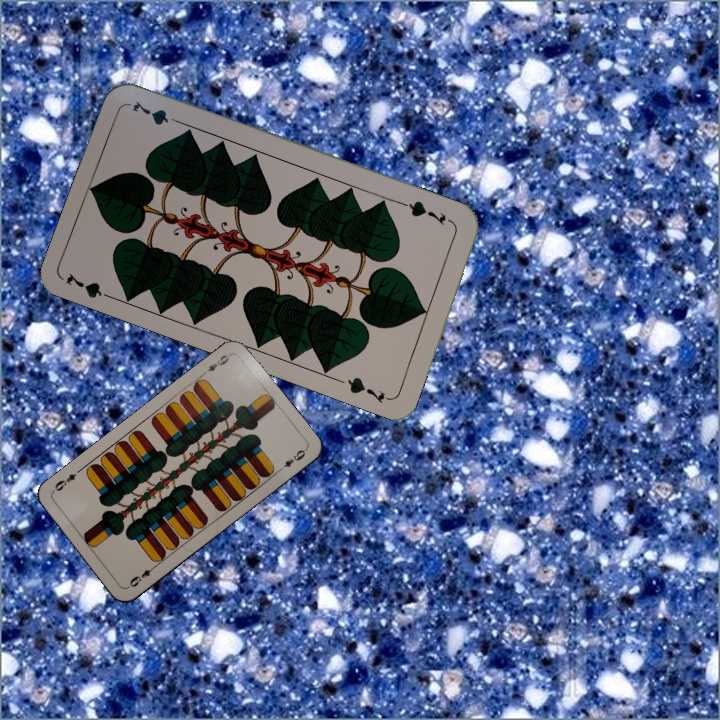E9: (124, 561, 159, 590), (199, 349, 234, 378)
G7: (62, 268, 119, 303), (400, 196, 457, 228)
